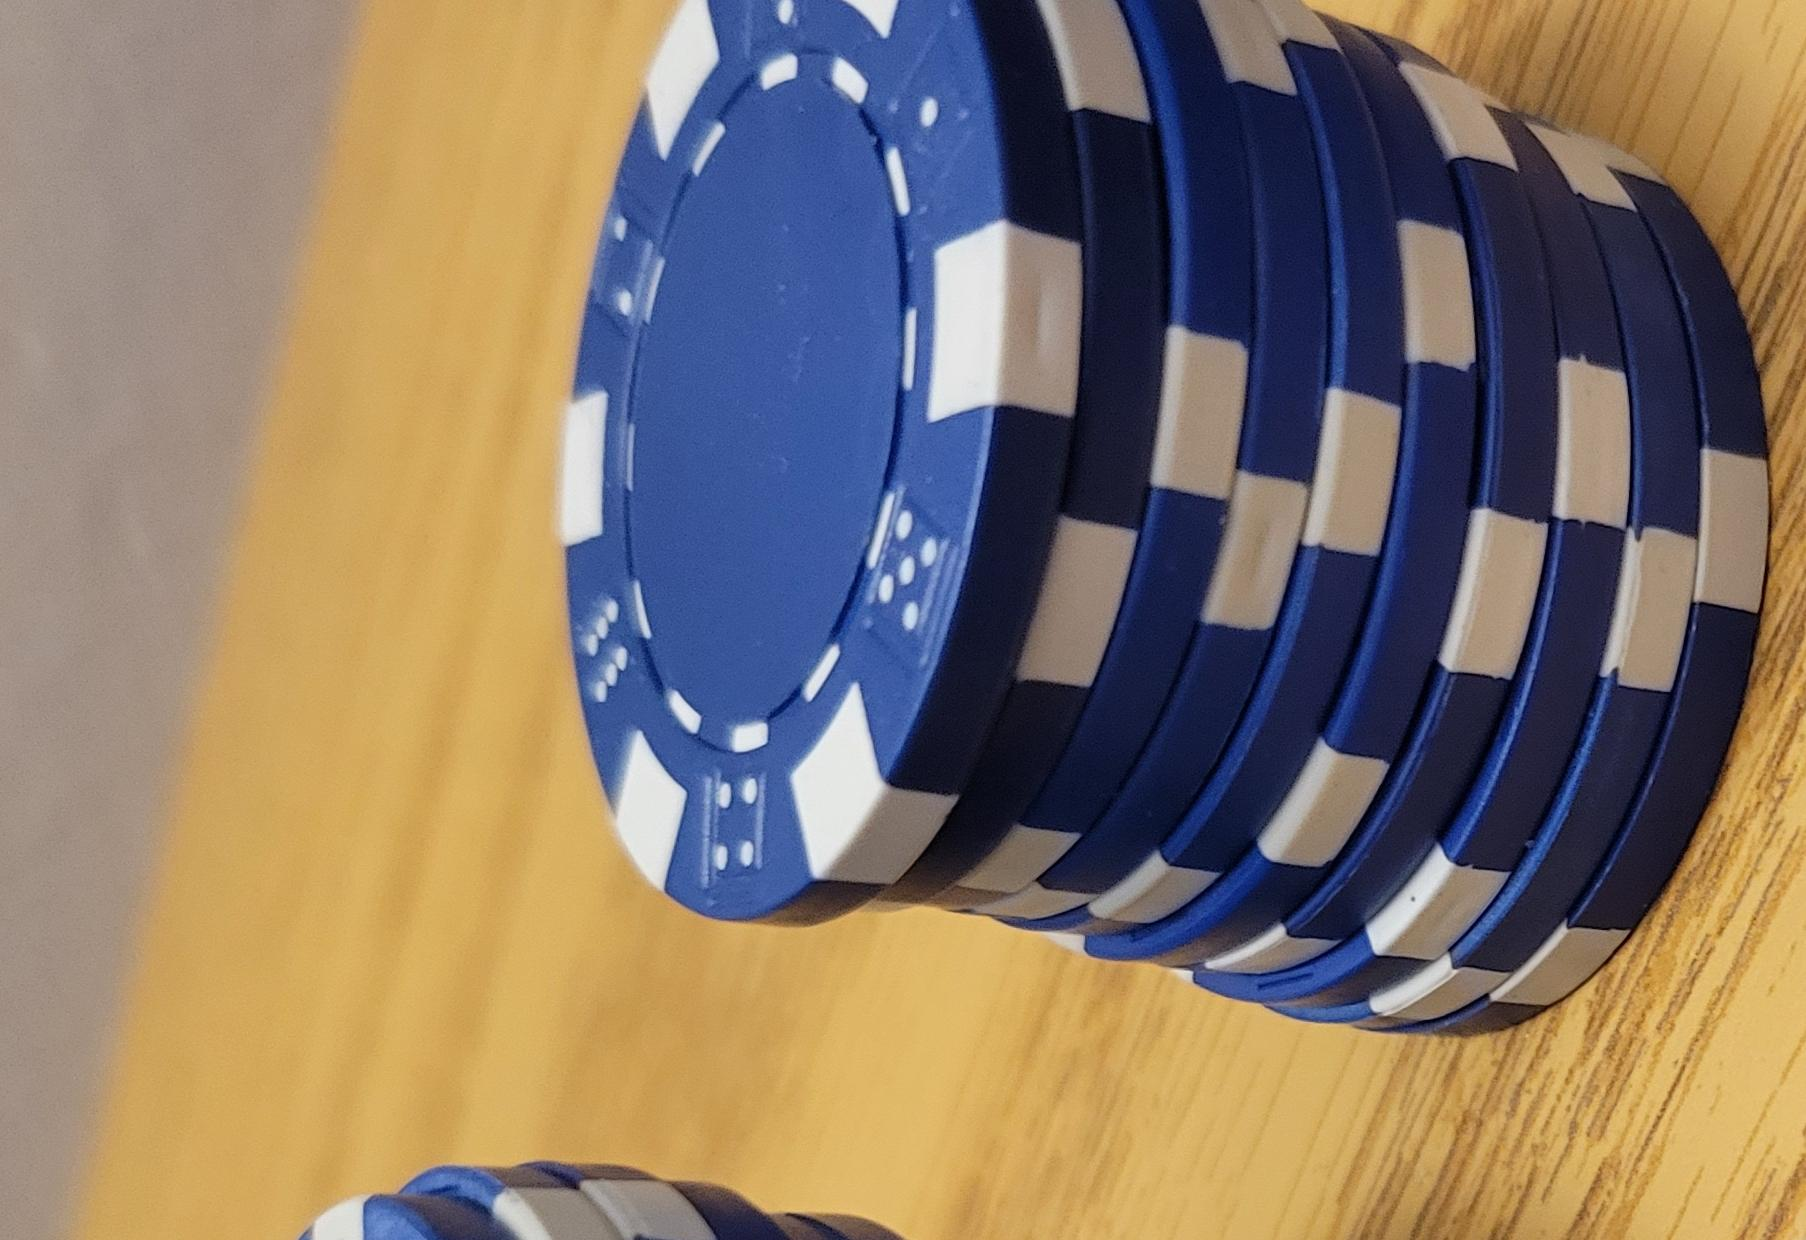Chip: (1, 102, 1265, 1240)
